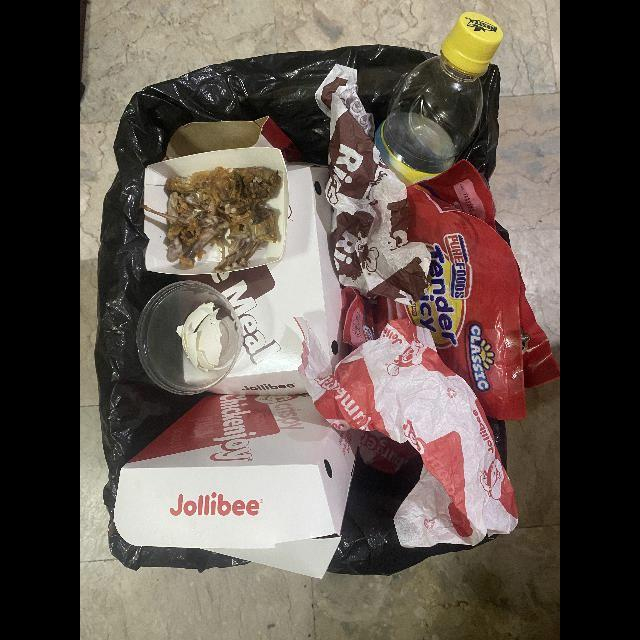cardboard: (113, 394, 365, 581), (169, 162, 352, 399), (163, 117, 293, 164)
food_wrapper: (336, 159, 560, 421)
left_over_food: (163, 167, 283, 271)
paper: (294, 317, 520, 548), (315, 63, 432, 304)
plastic_bottle: (376, 13, 505, 187)
